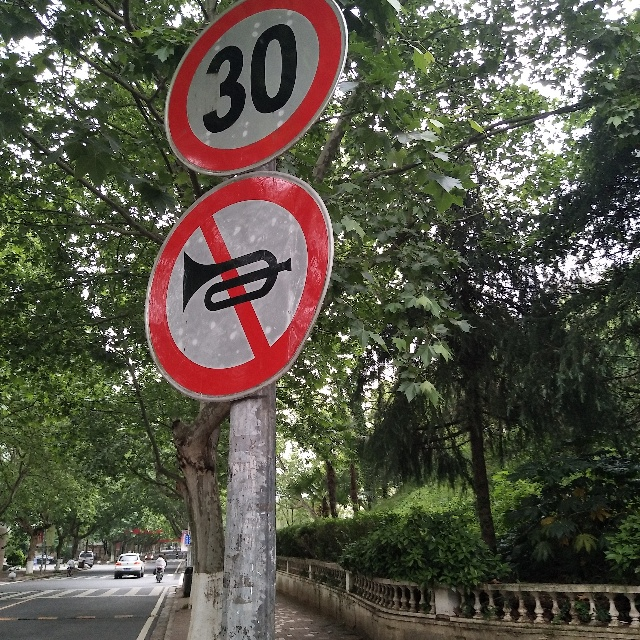nohonk: (145, 198, 314, 348)
